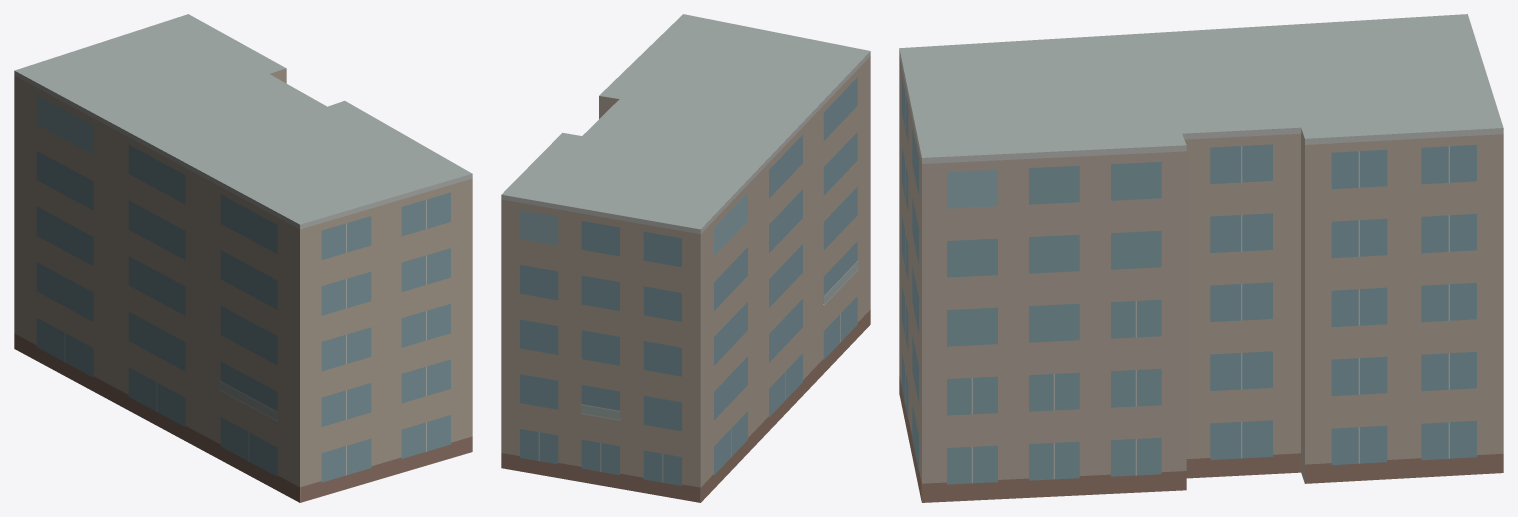
The model's file is survey-upis-32523832.glb.
3 renders of one model, left to right at view 1: azimuth 30°, elevation 25°; view 2: azimuth 150°, elevation 25°; view 3: azimuth 270°, elevation 25°, orthographic. The views are drawn at different scales.
Visible parts, largest first — view 1: survey-upis-32523832.tmp; view 2: survey-upis-32523832.tmp; view 3: survey-upis-32523832.tmp.
Boxes of the visible parts, left/top/right/bottom form: survey-upis-32523832.tmp: left=14, top=14, right=472, bottom=502; survey-upis-32523832.tmp: left=501, top=14, right=870, bottom=502; survey-upis-32523832.tmp: left=899, top=14, right=1503, bottom=502.
Size of the model in its own units: 12.45 by 13.9 by 22.08.
